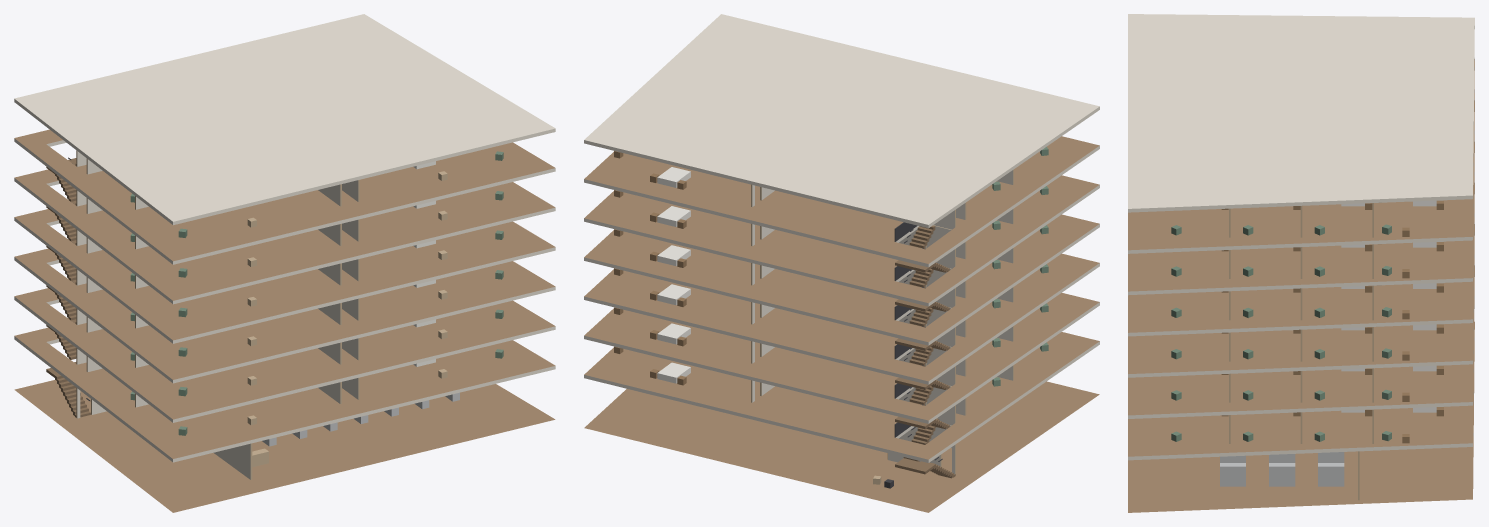
File: interior.glb
The picture shows the model from 3 angles, left to right: view 1: azimuth 30°, elevation 25°; view 2: azimuth 150°, elevation 25°; view 3: azimuth 270°, elevation 25°; orthographic projection. The views are drawn at different scales.
Parts seen in each view (by area): view 1: slabs, partitions, stair, coarse-s0; view 2: slabs, partitions, stair, coarse-s2, coarse-s1, coarse-s6, coarse-s4, coarse-s5, coarse-s3; view 3: slabs, coarse-s0, partitions, coarse-s5, coarse-s3, coarse-s6, coarse-s4, coarse-s1, coarse-s2.
Part boxes in pixels (x1,y1,x2,y2): slabs: (14, 14, 555, 512); partitions: (76, 150, 359, 479); stair: (46, 157, 90, 417); coarse-s0: (252, 392, 459, 467); slabs: (584, 14, 1099, 512); partitions: (751, 169, 1013, 475); stair: (894, 222, 955, 478); coarse-s2: (614, 303, 1048, 347); coarse-s1: (614, 342, 1048, 386); coarse-s6: (614, 146, 1048, 190); coarse-s4: (614, 225, 1048, 269); coarse-s5: (614, 186, 1048, 229); coarse-s3: (614, 264, 1048, 308); slabs: (1128, 14, 1474, 512); coarse-s0: (1220, 452, 1344, 486); partitions: (1229, 203, 1373, 500); coarse-s5: (1171, 241, 1443, 278); coarse-s3: (1171, 324, 1443, 360); coarse-s6: (1171, 200, 1443, 236); coarse-s4: (1171, 283, 1443, 319); coarse-s1: (1171, 406, 1443, 443); coarse-s2: (1171, 365, 1443, 401).
Size of the model in its own units: 30.05 by 21.87 by 22.59.
